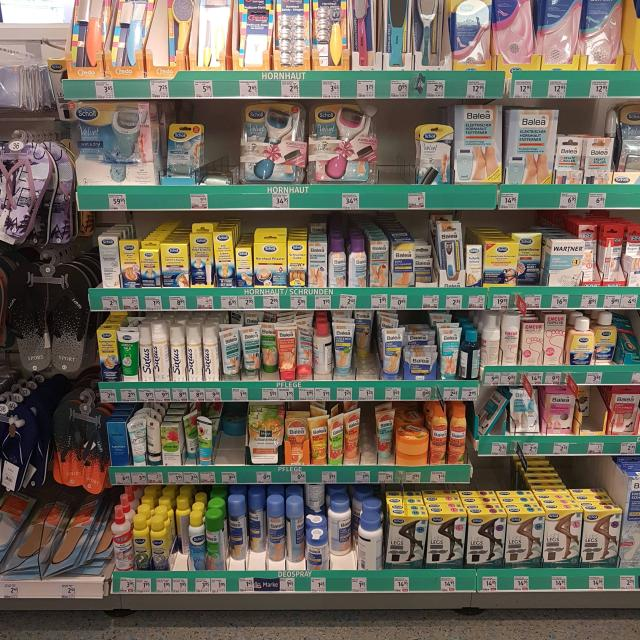void: (383, 103, 414, 210), (208, 102, 238, 208)
